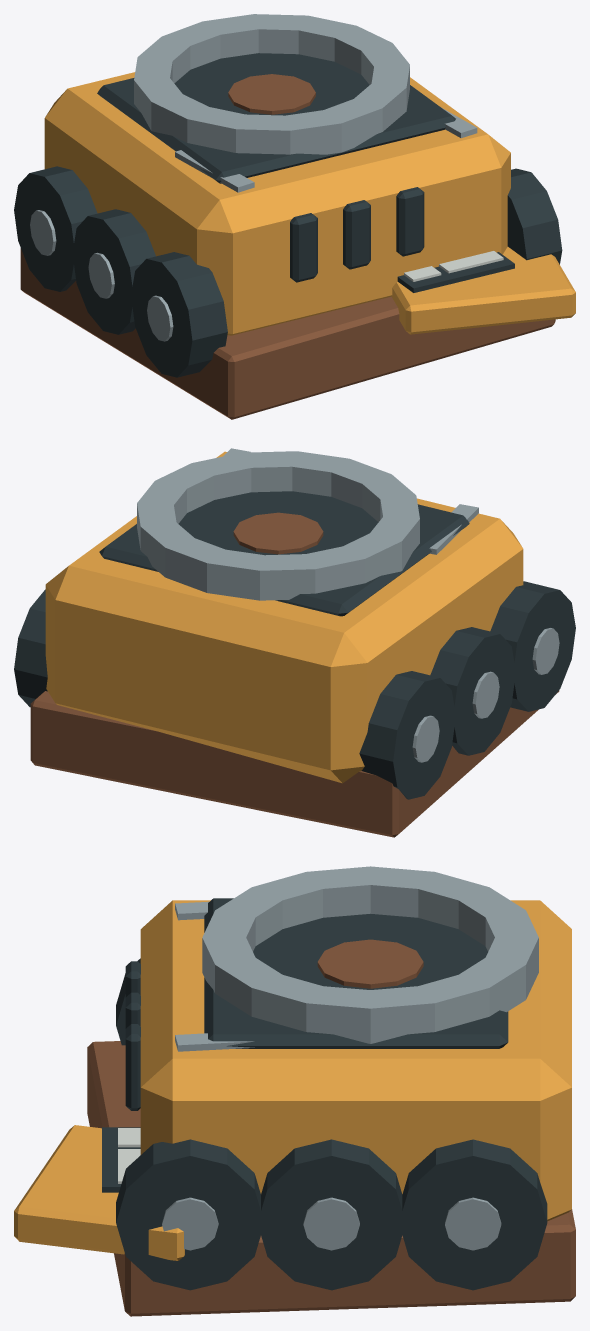
File: materials_1.glb
3 views of the same model, one above another, from view 1: azimuth 30°, elevation 25°; view 2: azimuth 150°, elevation 25°; view 3: azimuth 270°, elevation 25° (orthographic). The views are drawn at different scales.
Parts seen in each view (by area): view 1: materials_1; view 2: materials_1; view 3: materials_1.
Part boxes in pixels (x1=…): materials_1: x1=14, y1=14, x2=575, y2=419; materials_1: x1=14, y1=448, x2=575, y2=837; materials_1: x1=14, y1=866, x2=575, y2=1316.
Bounding box in the file's own units: 0.7475 × 0.4255 × 0.7949.
